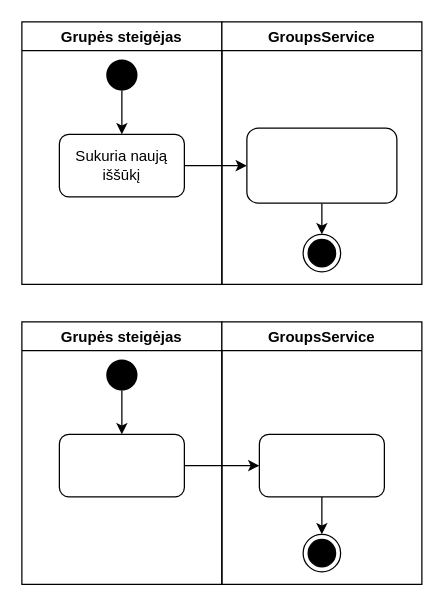
This 444x606 diagram has some shape labels left out. The shapes that lost their labels are listed below. From the top down, each one's centre as x and y in pixels, then its label:
the point at 321,165: Išsaugoja iššūkį ir siunčia pranešimą grupės nariams
the point at 121,465: Pasirenka iššūkį uždarimui
the point at 321,465: Uždaro iššukį
